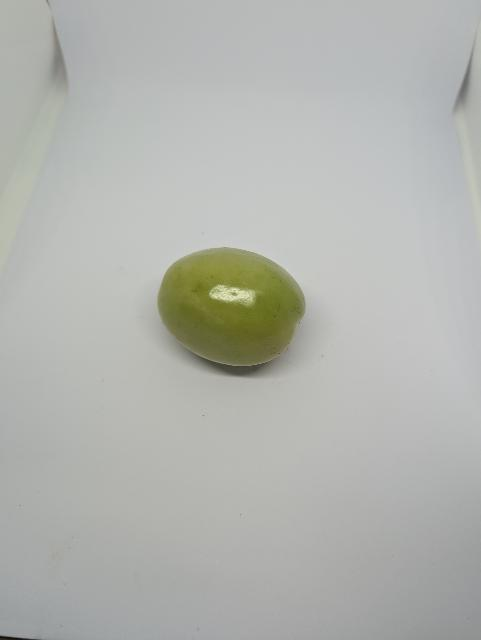green: (153, 237, 315, 380)
